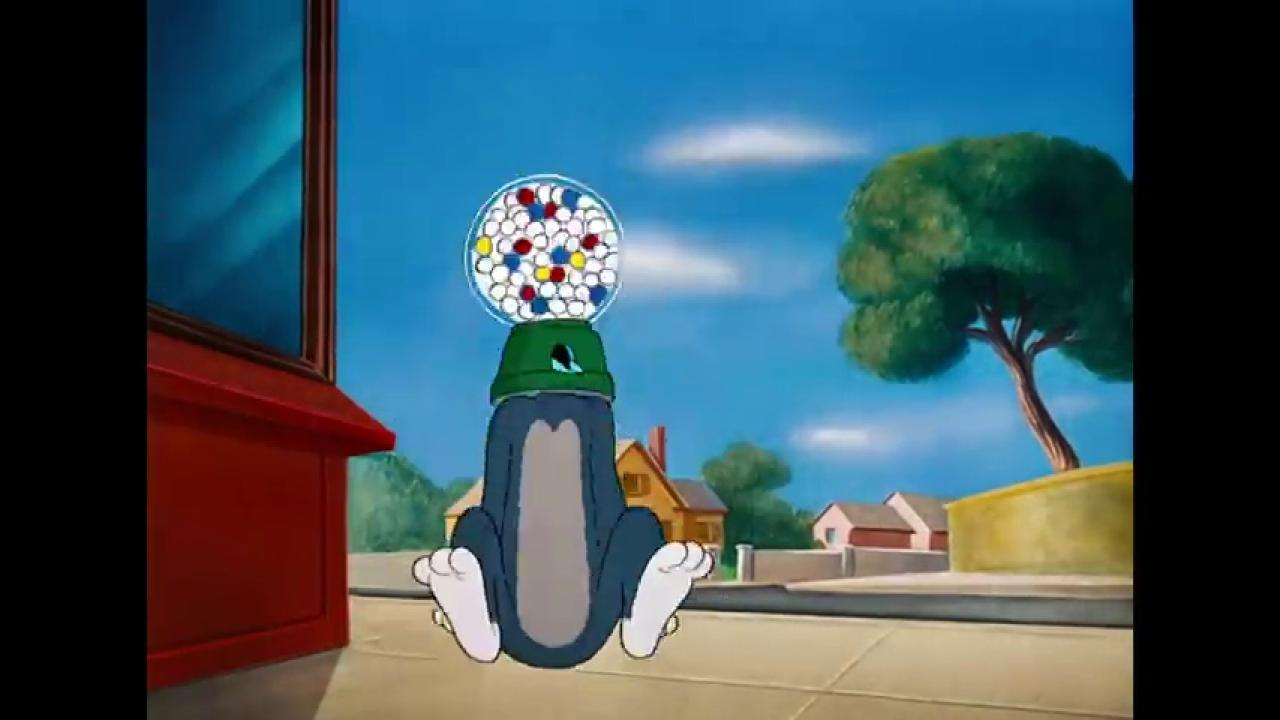Tom: (412, 390, 716, 671)
